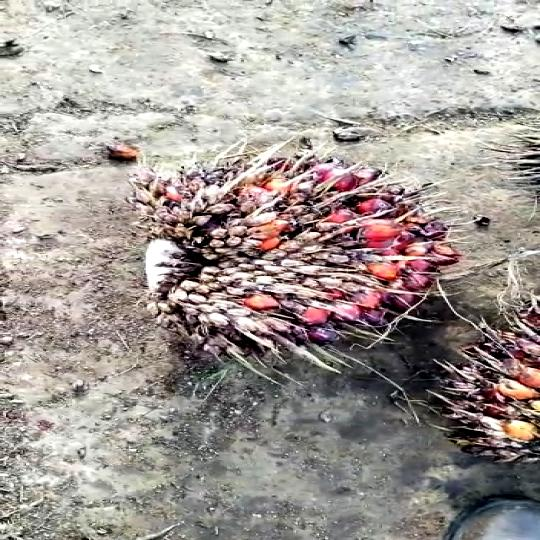masak: (141, 144, 459, 363)
